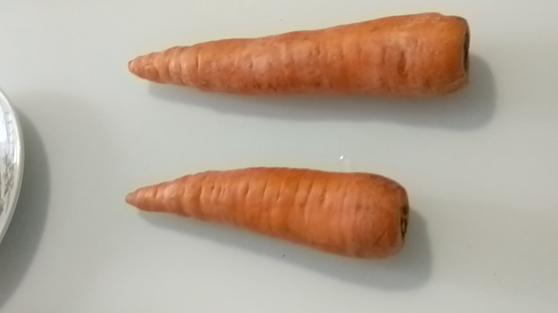carrot: (125, 14, 472, 99), (123, 165, 412, 256)
